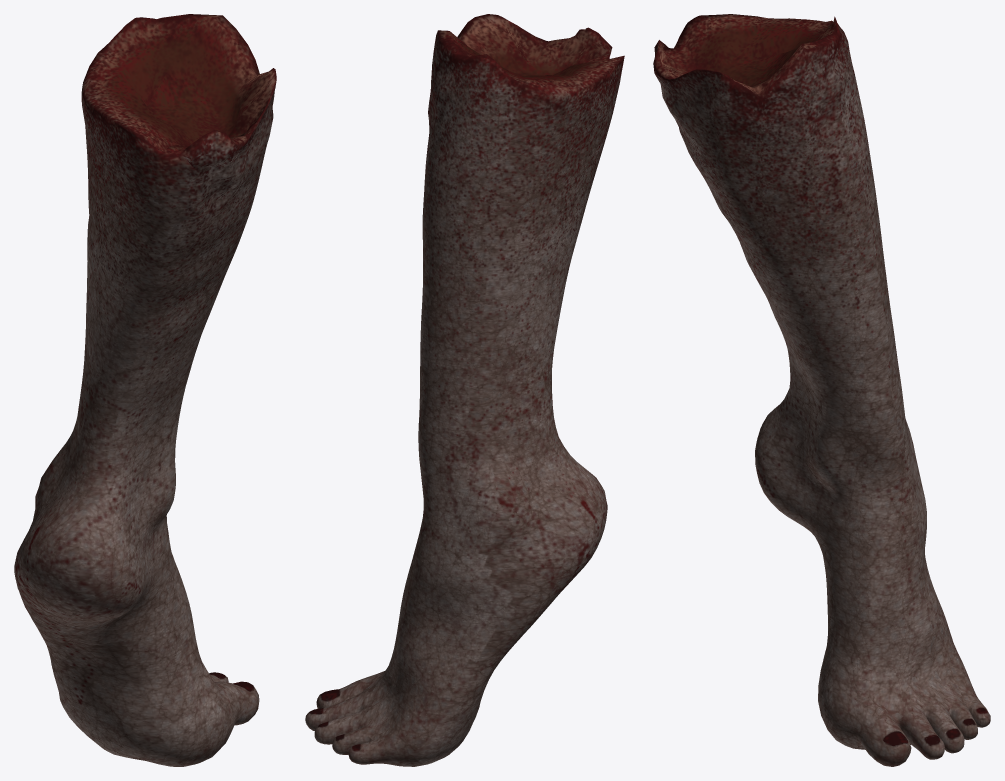
The model's file is leg1.fbx.
The picture shows the model from 3 angles, left to right: view 1: azimuth 30°, elevation 25°; view 2: azimuth 150°, elevation 25°; view 3: azimuth 270°, elevation 25°; orthographic projection. The views are drawn at different scales.
Visible parts, largest first — view 1: feet.001; view 2: feet.001; view 3: feet.001.
Boxes of the visible parts, x1,y1,x2,y2 form: feet.001: [14, 14, 276, 766]; feet.001: [305, 14, 624, 766]; feet.001: [653, 14, 990, 766].
Size of the model in its own units: 11.29 by 30.6 by 13.34.
1 material, 1 textured.
